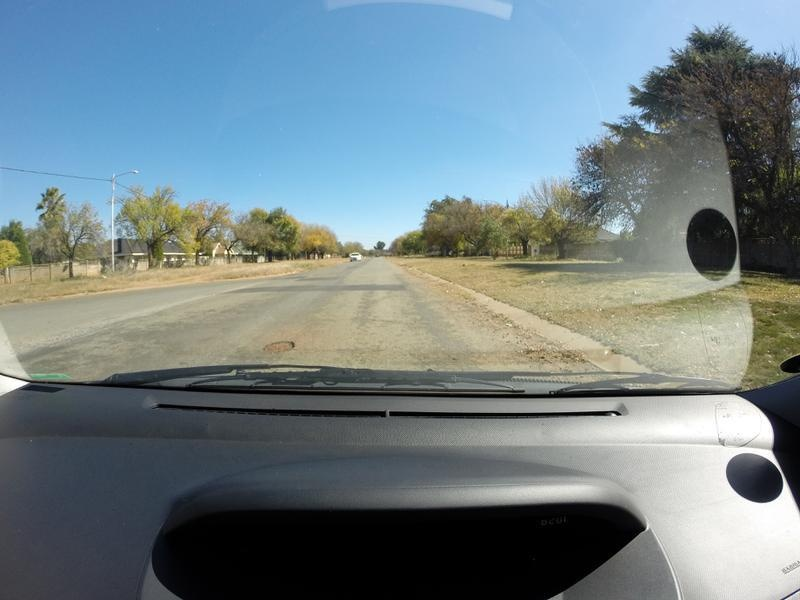pothole: (252, 335, 295, 352)
